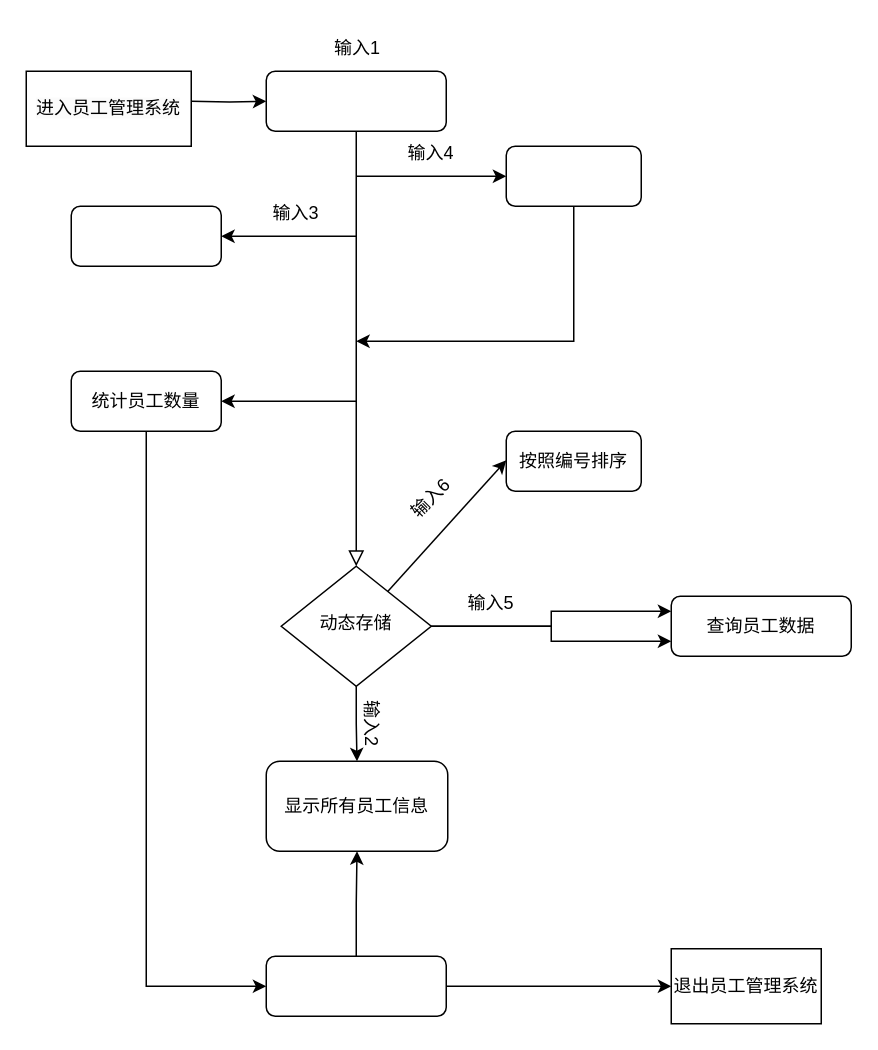
The diagram is 878 pixels wide and 1050 high, and some of its shapes have lost their labels. Here are the shapes that lost their labels. From the top down, the box of each, then its label:
(265, 70, 446, 131): 添加员工数据
(505, 145, 641, 206): 修改员工信息
(70, 205, 221, 266): 删除员工信息
(265, 955, 446, 1016): 用户界面
